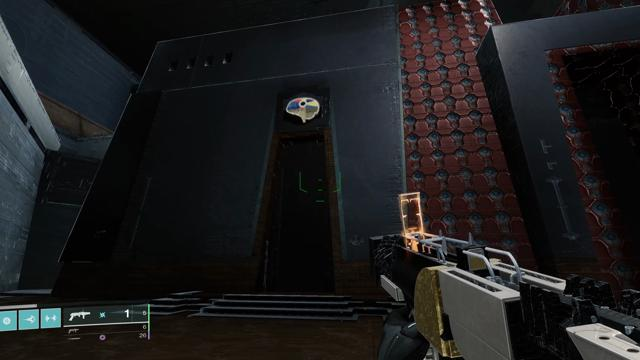brain: (282, 91, 324, 126)
